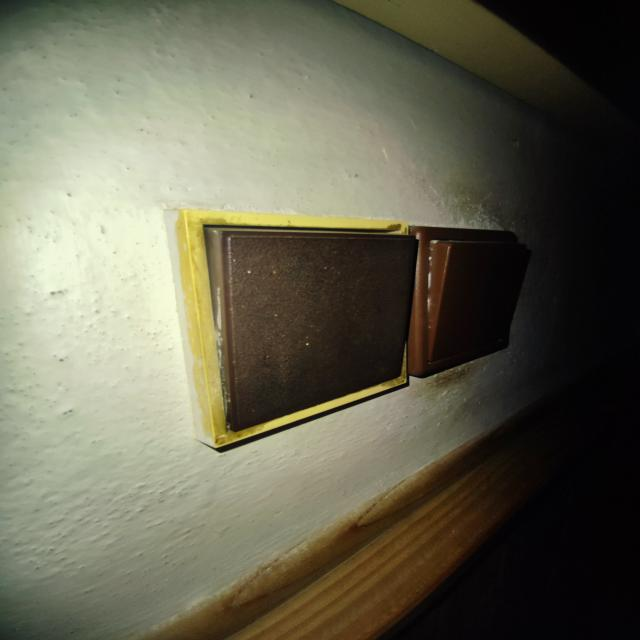house switch: (165, 210, 419, 447)
